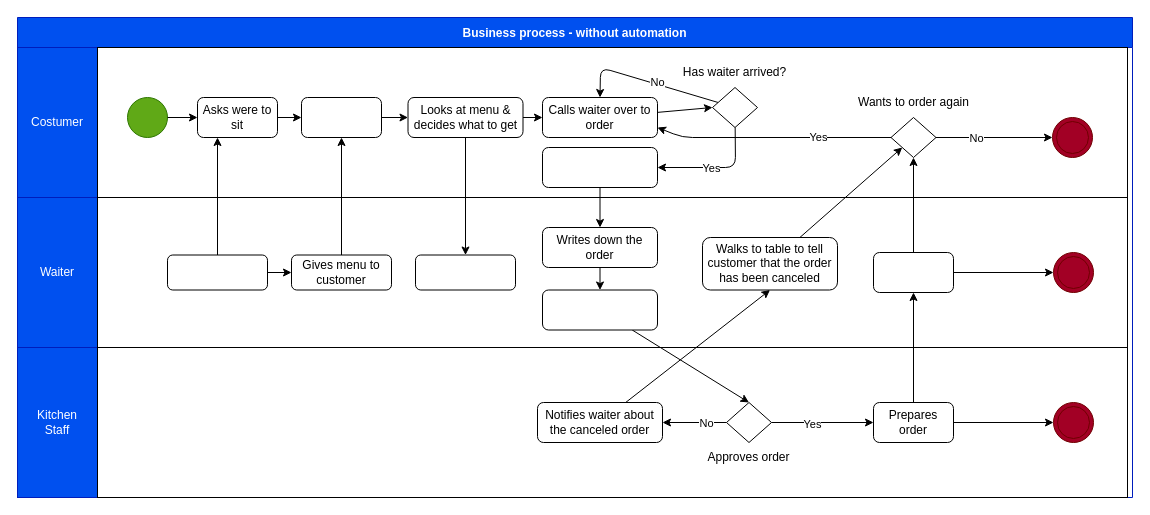
Image size: 1150x515. Some labels were removed from this diagram. The box of each missing label's shape, as (x1, y1, x2, y2) in pixels:
Passes order onto Kitchen Staff: (542, 289, 658, 330)
Serves the food: (872, 252, 954, 292)
Sits down: (300, 96, 382, 138)
Tells customer were they can sit: (166, 254, 268, 290)
Tells waiter what they would like: (542, 146, 658, 188)
Walks away: (414, 254, 516, 290)
